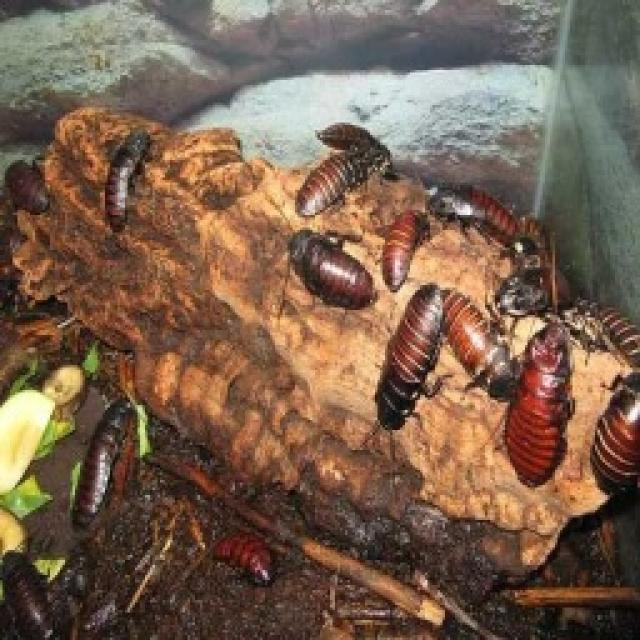cockroach: (373, 278, 464, 438), (436, 278, 531, 419), (72, 380, 150, 530), (517, 308, 569, 520), (278, 222, 389, 306), (419, 173, 535, 243), (101, 124, 157, 258), (585, 361, 640, 493), (286, 147, 382, 222), (376, 200, 436, 298), (318, 114, 400, 175), (212, 521, 278, 593), (4, 155, 62, 217)
